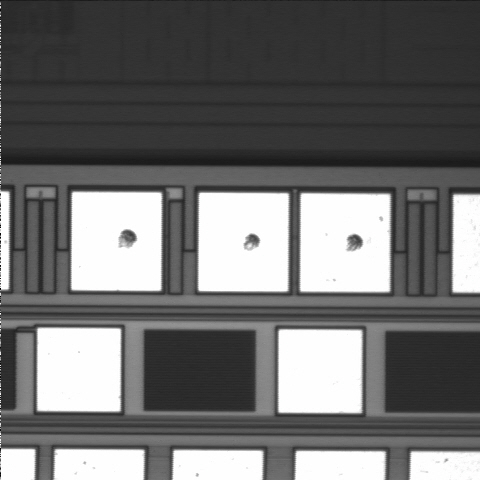pad: (71, 192, 162, 291), (198, 193, 289, 291), (300, 193, 390, 292), (37, 328, 121, 411), (278, 330, 362, 413)
